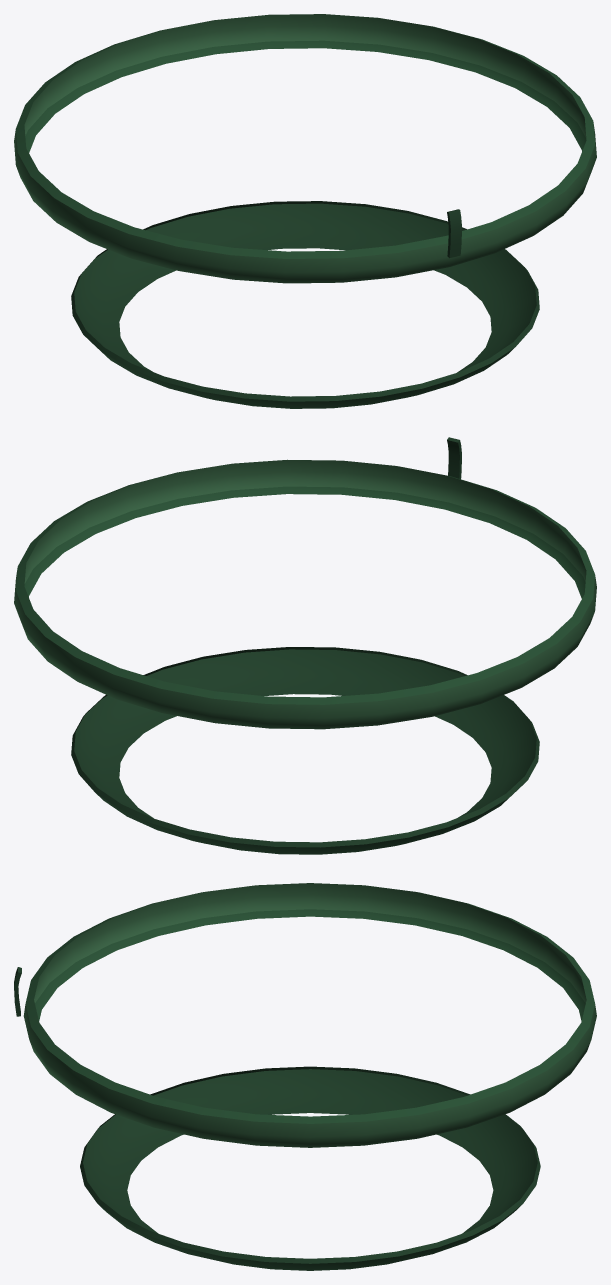
Rendered from cos_l_boots.glb.
3 views of the same model, one above another, from view 1: azimuth 30°, elevation 25°; view 2: azimuth 150°, elevation 25°; view 3: azimuth 270°, elevation 25° (orthographic).
Visible parts, largest first — view 1: l_boots; view 2: l_boots; view 3: l_boots.
Boxes of the visible parts, bbox=[...] form: l_boots: bbox=[14, 14, 596, 408]; l_boots: bbox=[14, 437, 596, 854]; l_boots: bbox=[14, 883, 596, 1270].
Bounding box in the file's own units: 1.09 × 0.4625 × 1.11.
